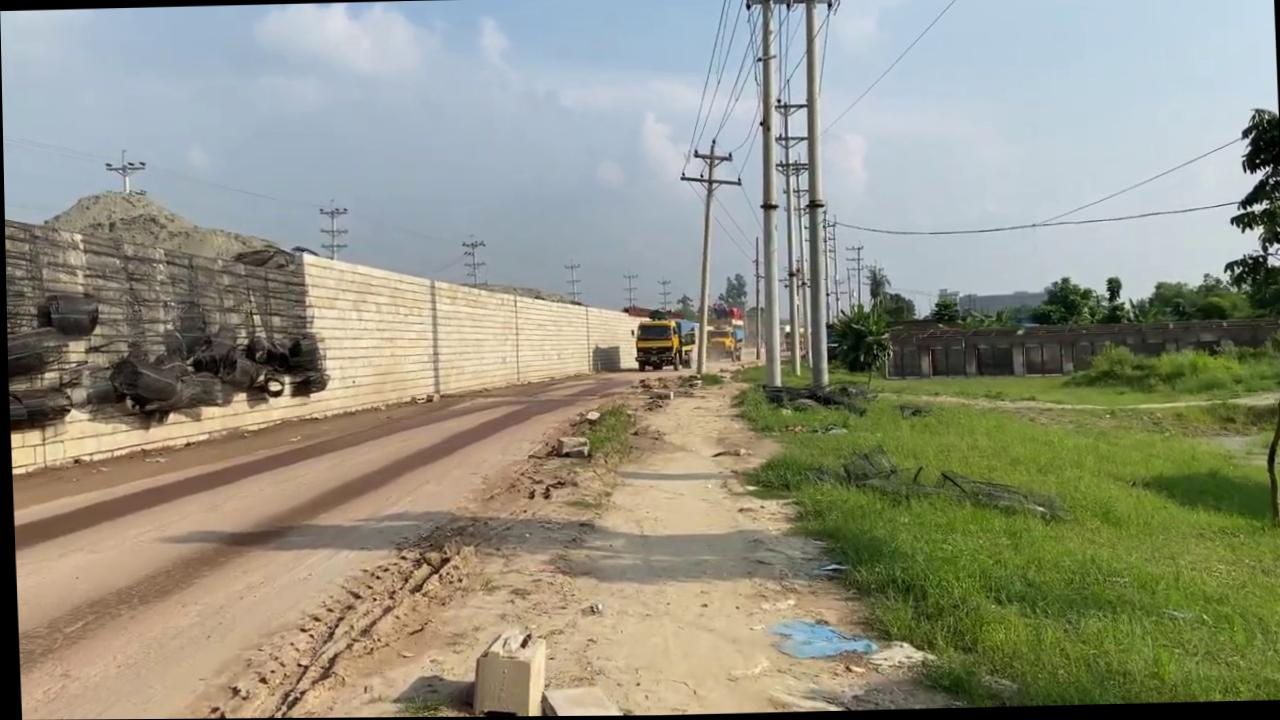Fence: (877, 318, 1280, 382)
Garbage: (5, 285, 326, 426)
Obstacle: (464, 628, 546, 717), (537, 685, 619, 717)
Pole: (677, 139, 747, 378), (747, 0, 787, 389), (794, 0, 832, 393)
Rickshaw: (367, 352, 957, 718)
Sidewalk: (762, 615, 876, 663)
Traffic-sign: (1215, 108, 1280, 531)
Tree: (217, 280, 327, 399), (630, 319, 683, 373), (705, 327, 740, 363), (778, 325, 806, 359)
Upstairs: (4, 197, 662, 474)
